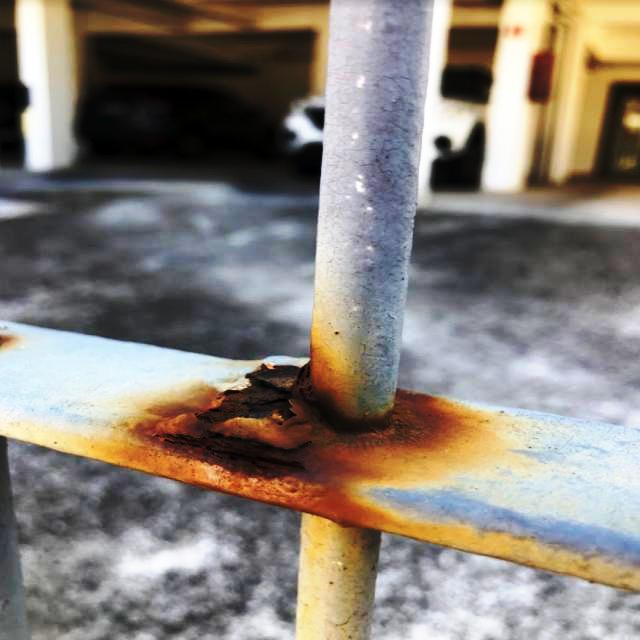Corrosion: (108, 360, 529, 561)
